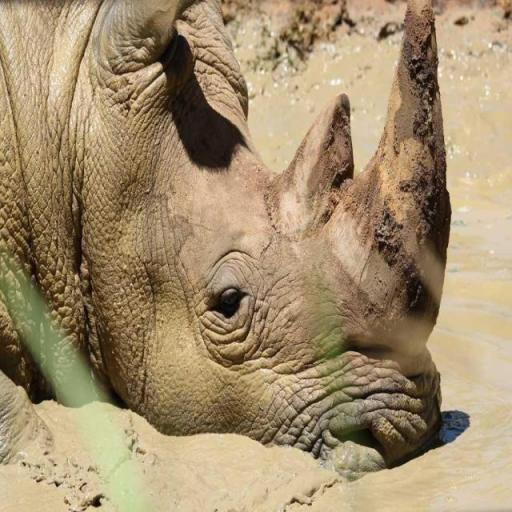Rhino: (0, 0, 451, 478)
